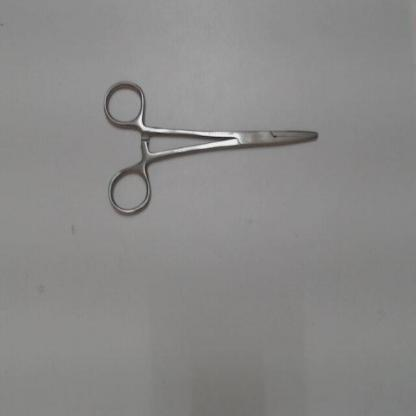Mayo Needle Holder: (99, 71, 322, 224)
